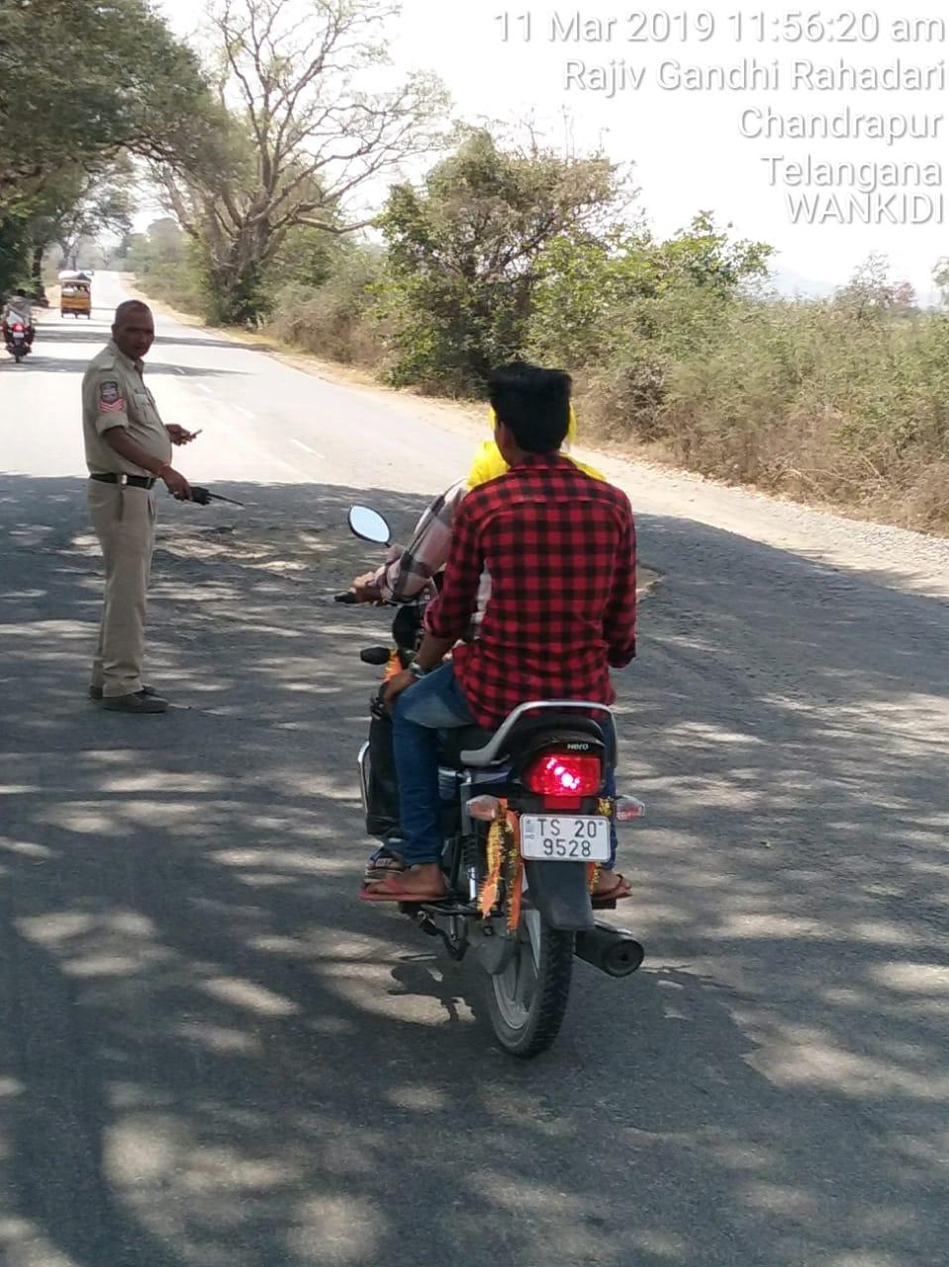plate: (511, 807, 624, 875)
